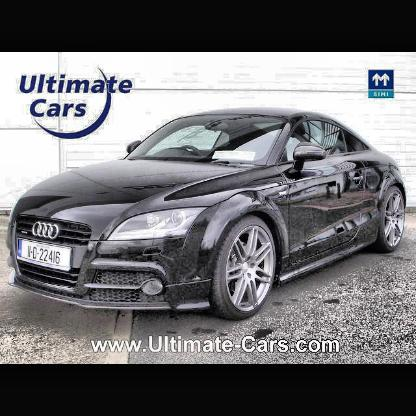Audi TT Hatchback 2011: (3, 105, 415, 319)
